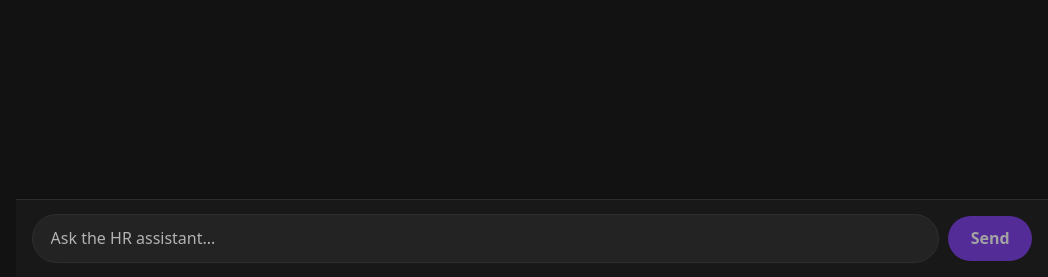
Test case: ChatDock › streams the assistant reply into an aria-live transcript
The width and height of the screenshot is (1048, 277).
Type "hi" into the field with test id "chat-input". click: [485, 238]
box: [32,214,939,263]
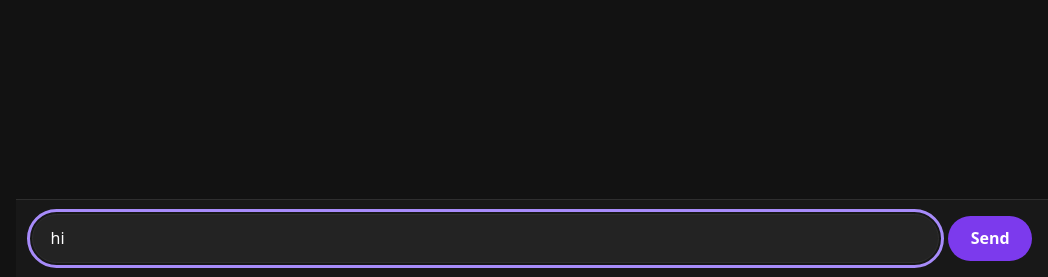
Click the button with test id "chat-send". click: [990, 238]
box: [948,216,1032,261]
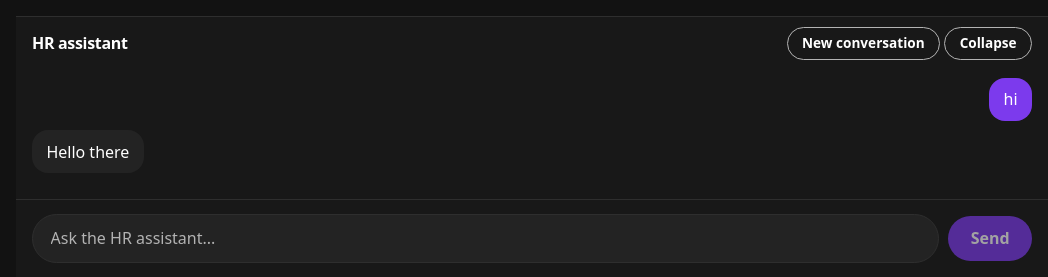
Check: the text "Hello there" is shown, box [32,130,144,173]
